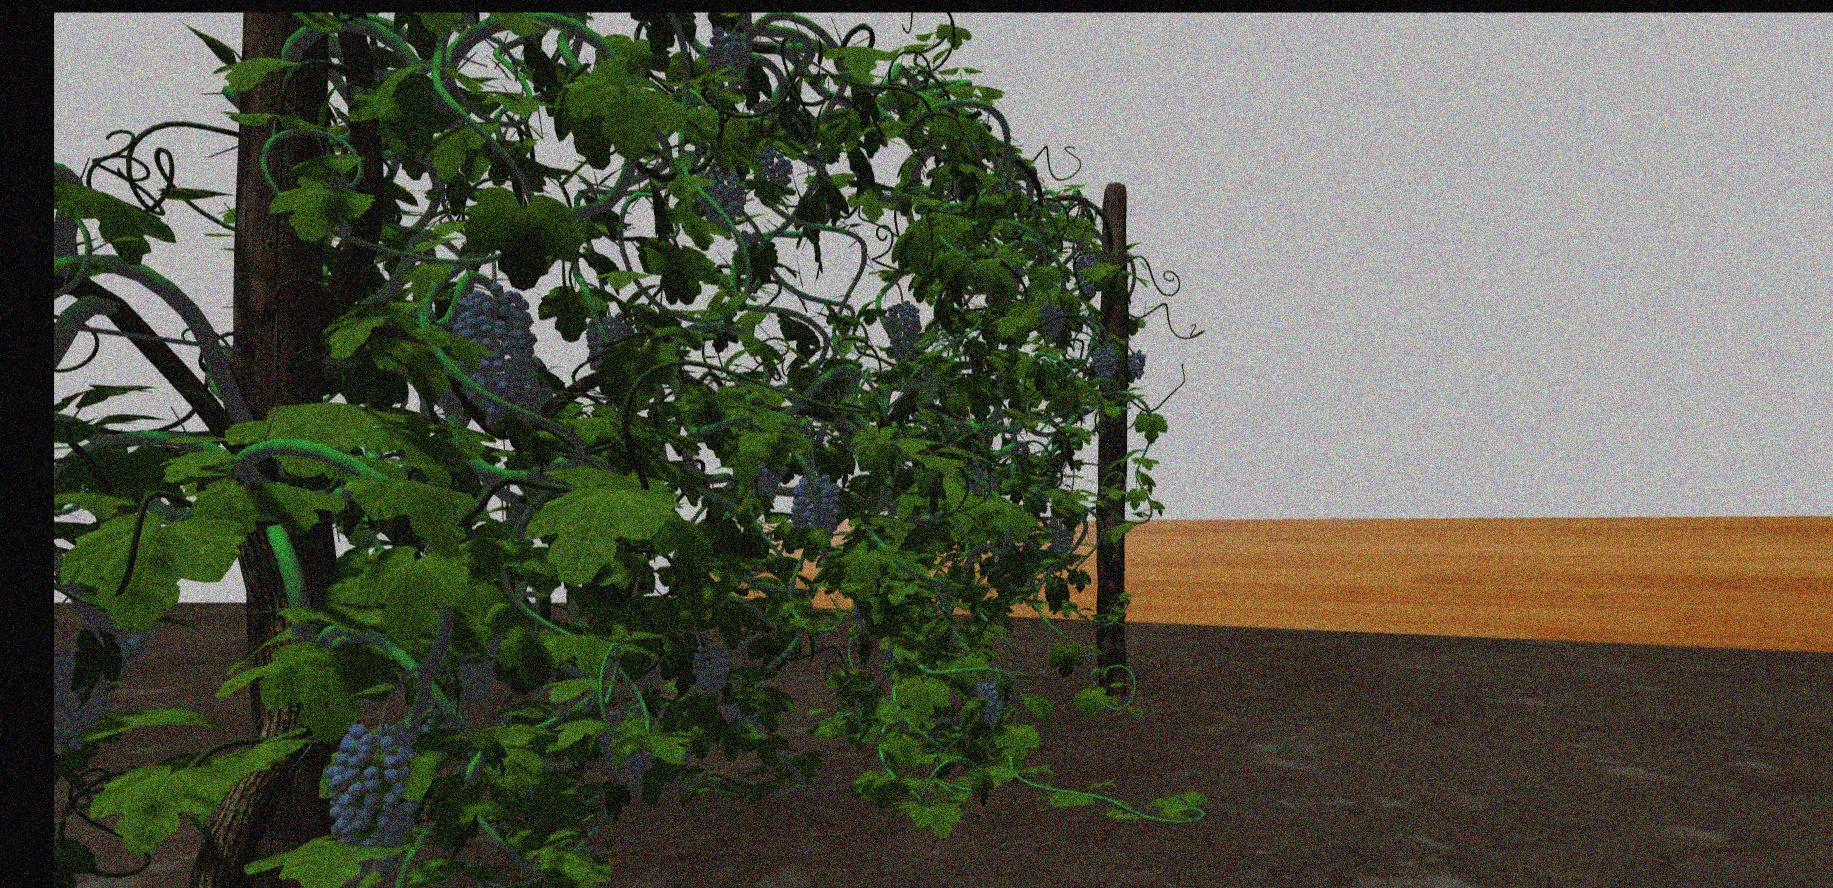grape: (321, 724, 422, 849), (451, 292, 537, 424), (55, 655, 108, 751), (787, 476, 842, 541), (699, 169, 746, 228), (691, 641, 733, 694), (885, 301, 921, 362), (704, 25, 749, 71), (970, 682, 1007, 729), (1038, 299, 1068, 340), (1091, 344, 1118, 386), (760, 150, 791, 185), (1047, 518, 1074, 551), (1125, 351, 1149, 377)
